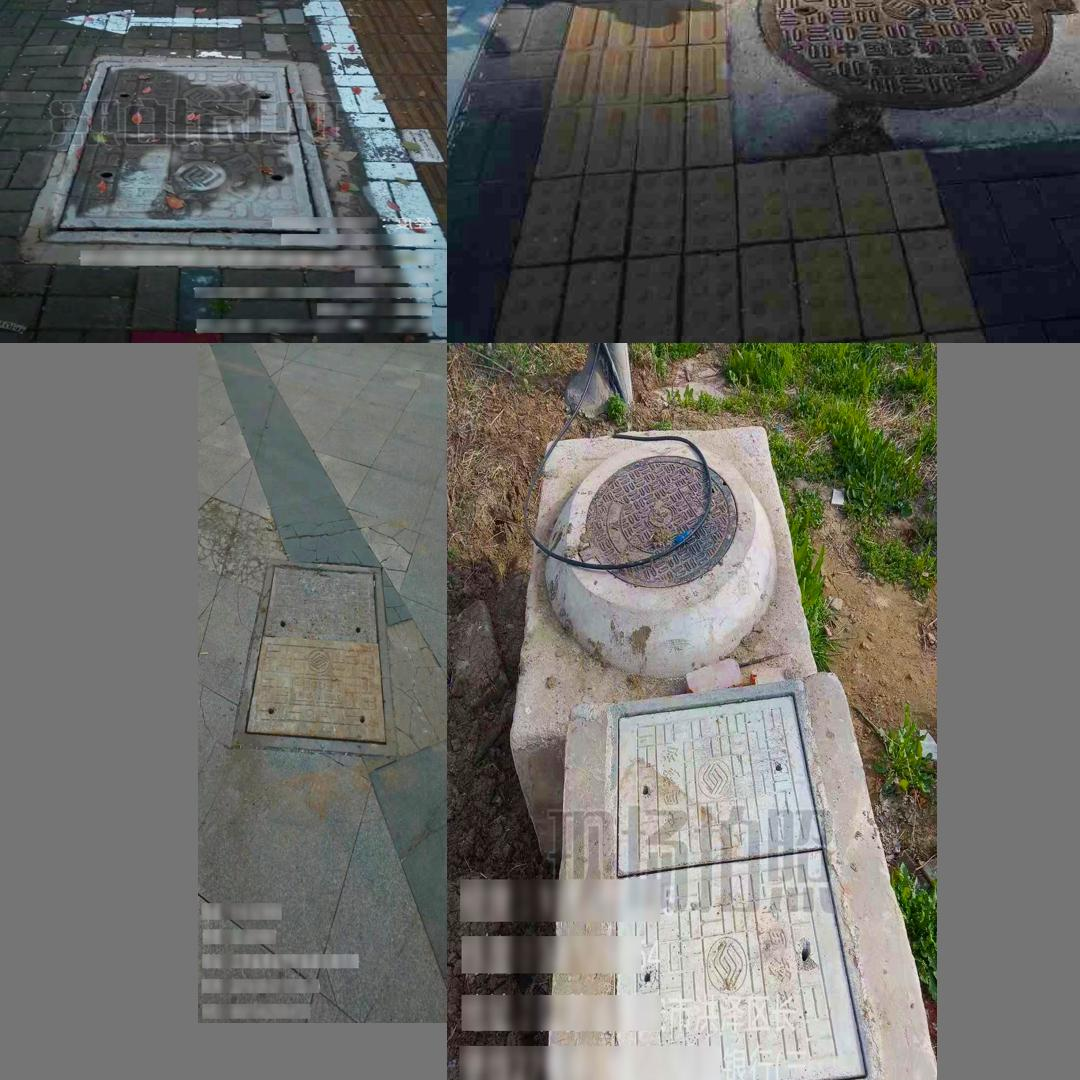good: (604, 679, 882, 1080), (40, 61, 342, 247), (760, 0, 1080, 111), (230, 559, 397, 754), (576, 455, 737, 590)
